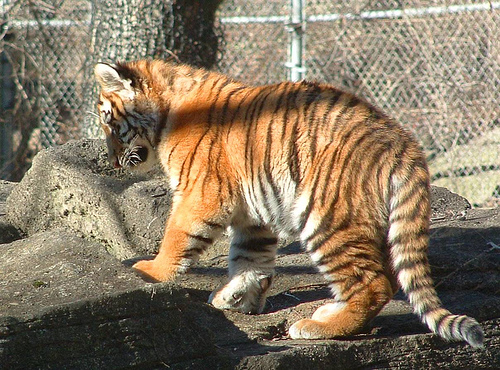Tigre: (79, 39, 473, 360)
